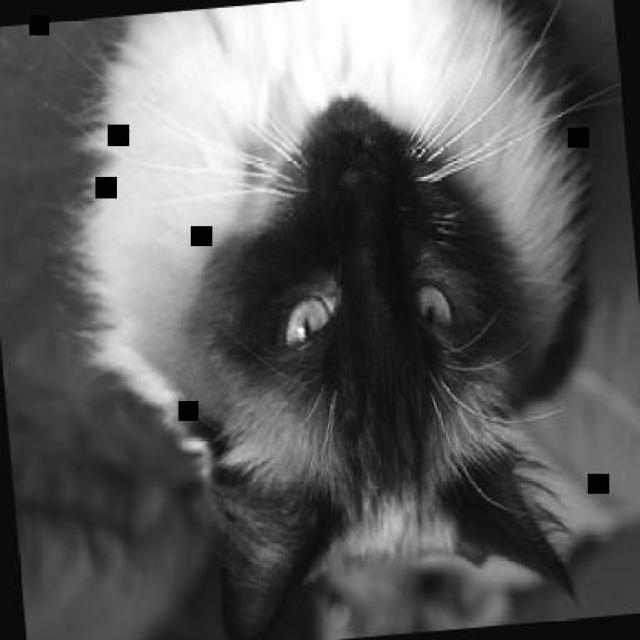cat: (67, 0, 623, 638)
